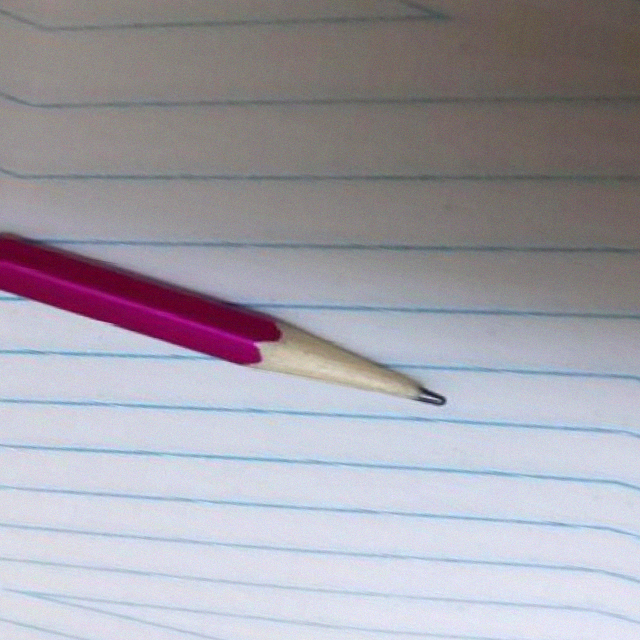pencil: (229, 323, 452, 419)
